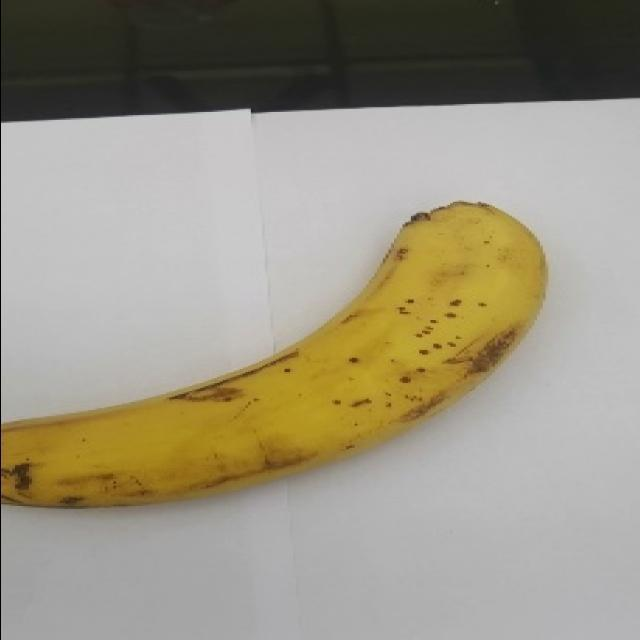Banana: (1, 199, 548, 509)
